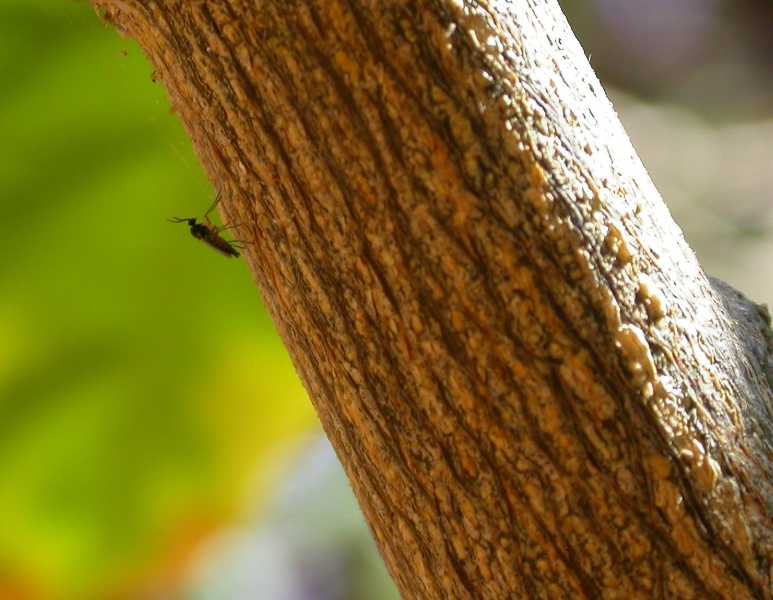Fruit fly: (163, 187, 256, 285)
